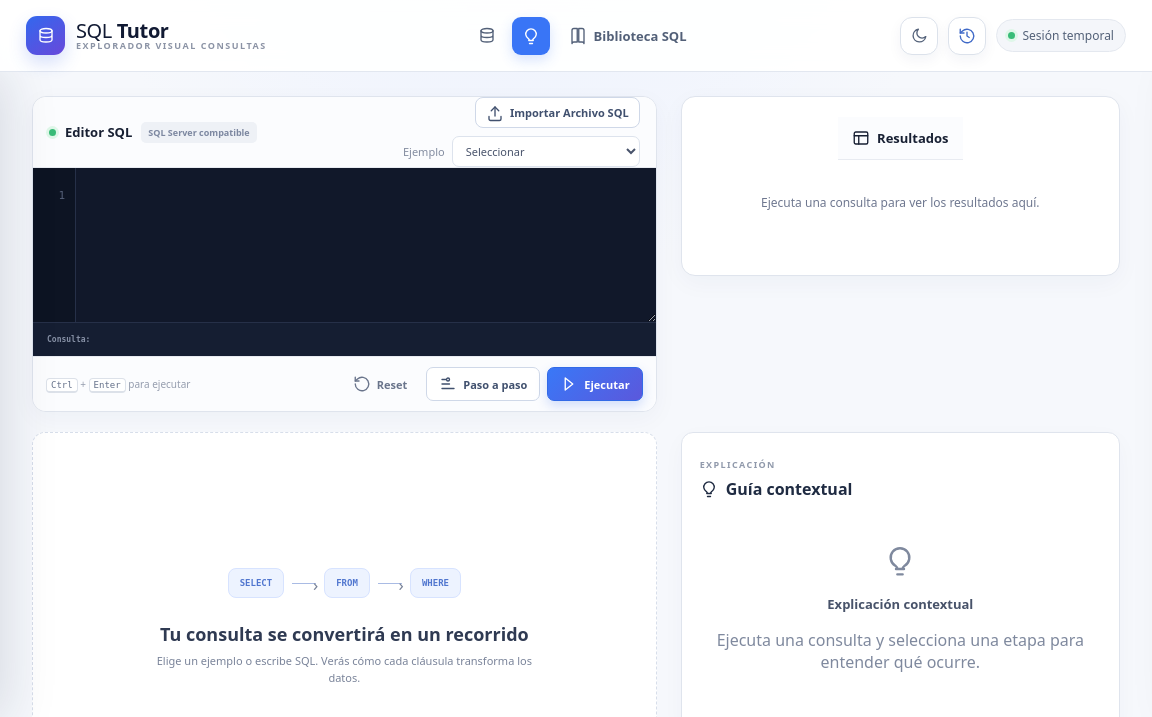
Scenario: App SQL flows › adds successful executions to the history
Type "SELECT first_name FROM Customers WHERE customer_id = 1;" into the text box named "consulta sql" at (366, 245), box [76,168,656,322]
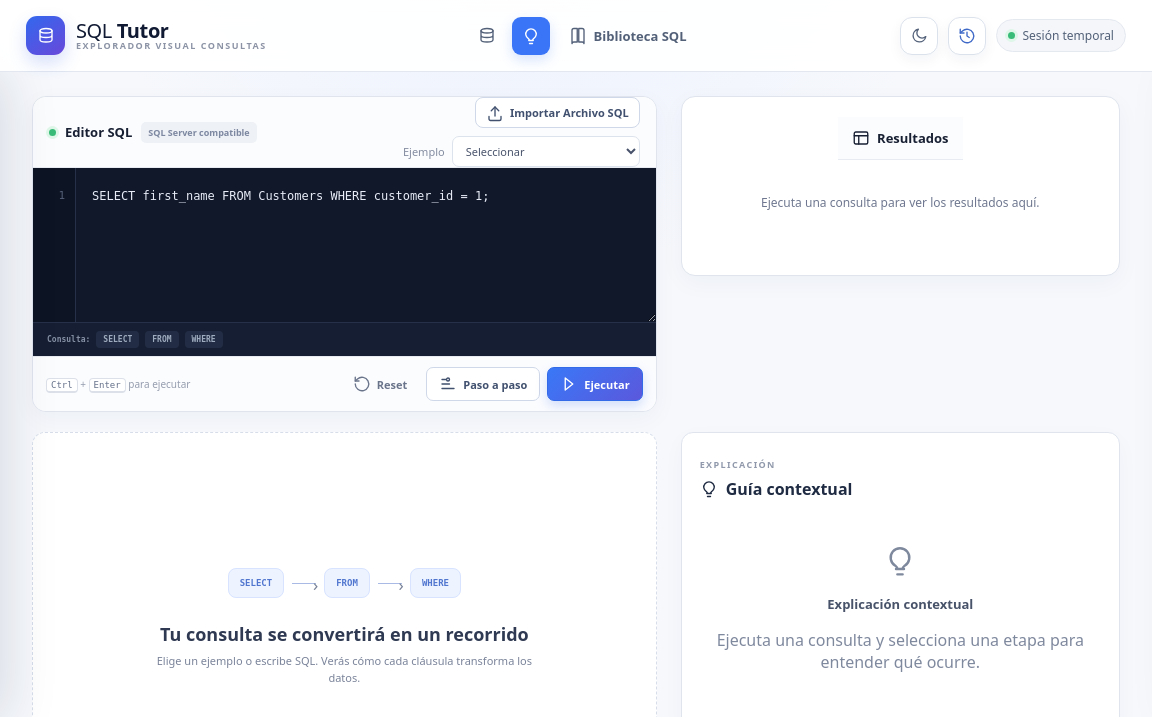
Click the button "Ejecutar" at (595, 384), box [547,367,643,401]
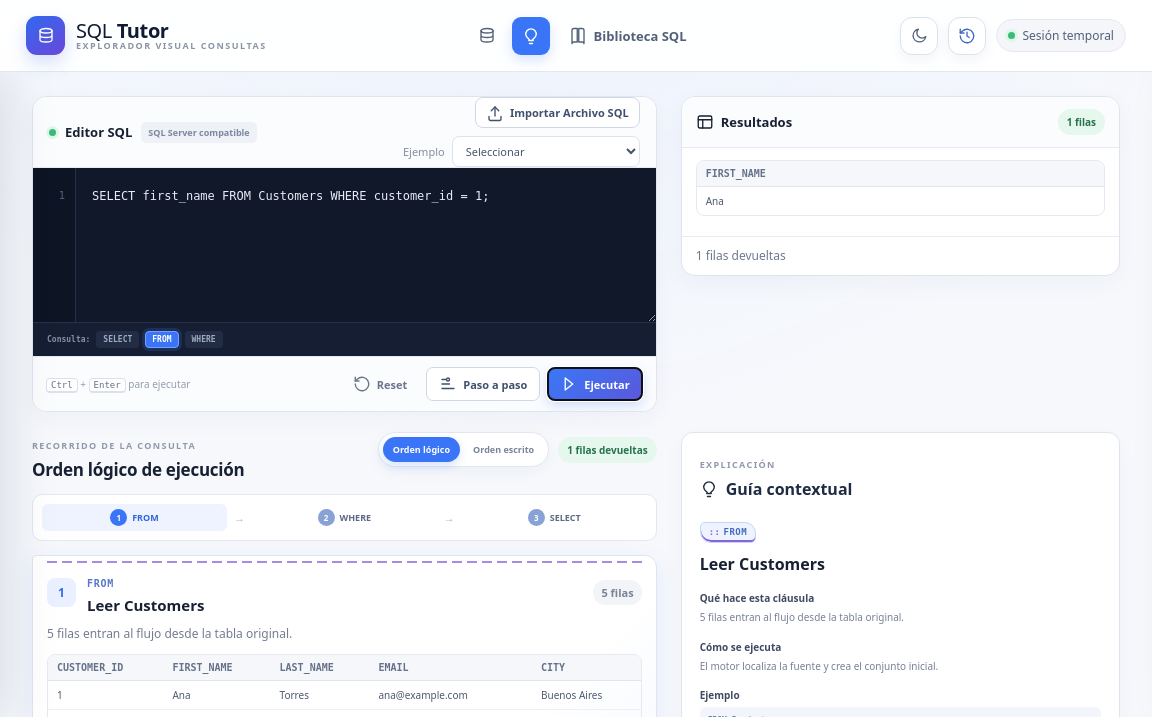
Click the button named "Abrir historial" at (968, 36), box [948,16,986,54]
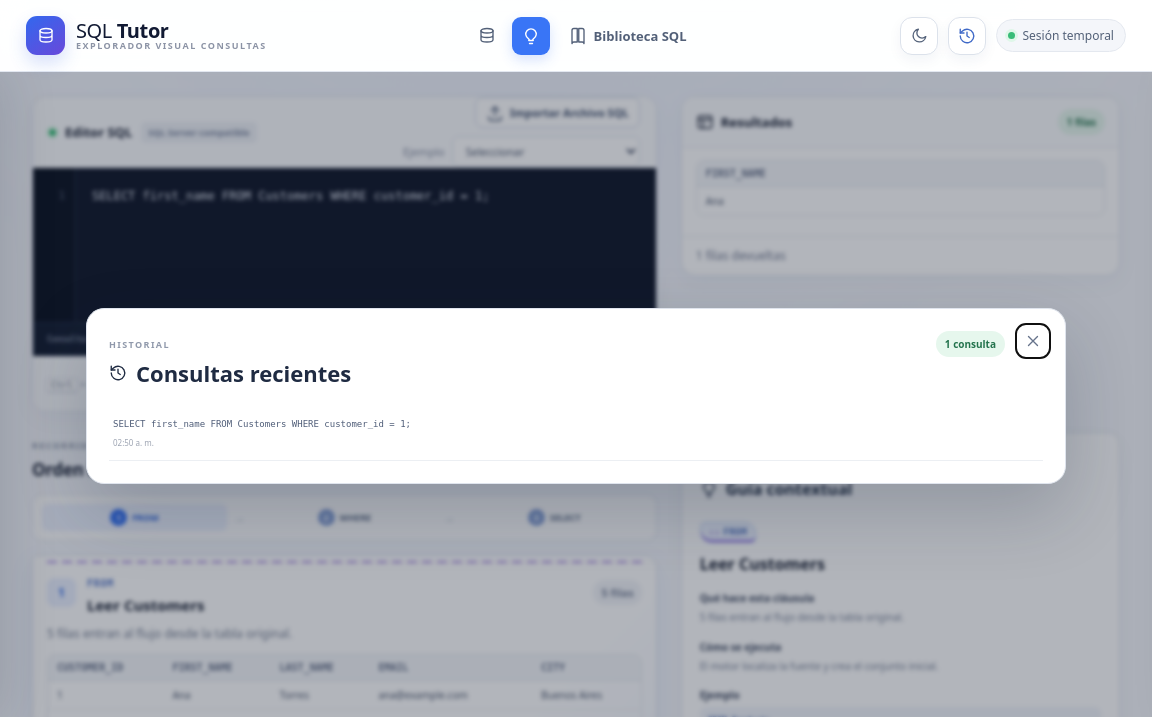
Expected: the dialog named "Historial de consultas" is shown, [86,308,1066,484]
Expected: the text "SELECT first_name FROM Customers WHERE customer_id = 1;" is shown, [113,420,411,430]
